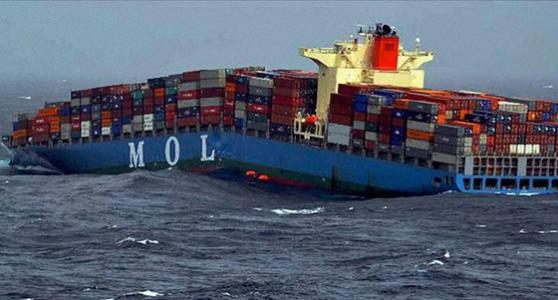Cargoship: (5, 24, 558, 200)
